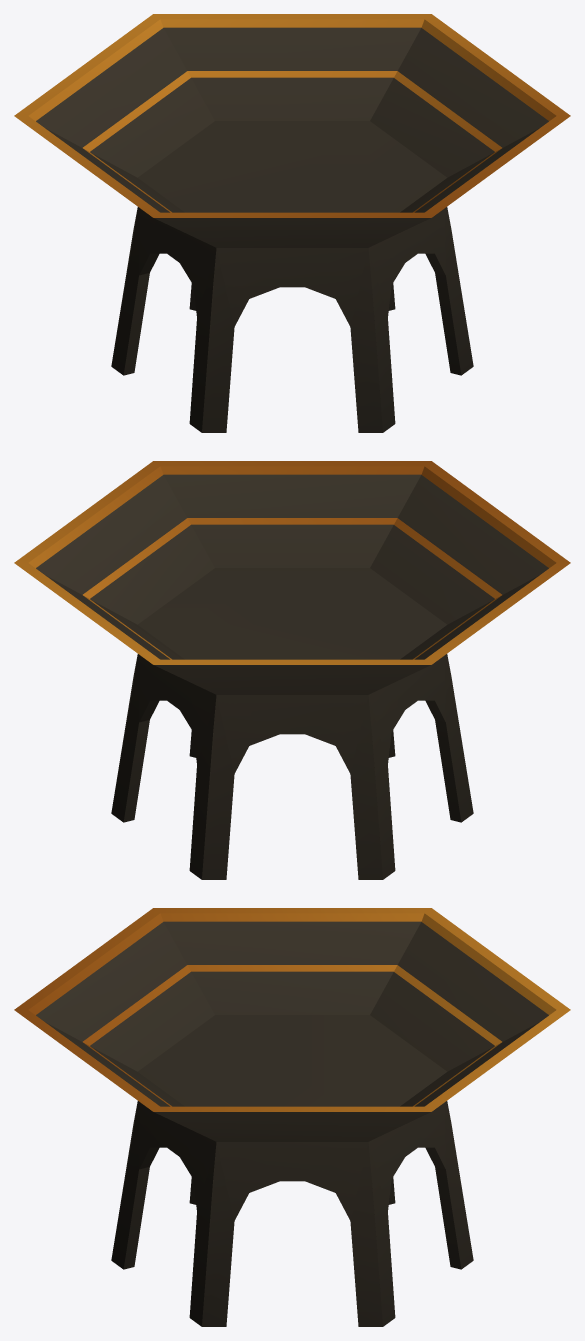
File: brazier.fbx
3 renders of one model, top to bottom at view 1: azimuth 30°, elevation 25°; view 2: azimuth 150°, elevation 25°; view 3: azimuth 270°, elevation 25°, orthographic.
Visible parts, largest first — view 1: brazier; view 2: brazier; view 3: brazier.
Part boxes in pixels (bbox=[...]): brazier: bbox=[14, 14, 570, 432]; brazier: bbox=[14, 461, 570, 879]; brazier: bbox=[14, 908, 570, 1326].
Bounding box in the file's own units: 0.7911 × 0.4537 × 0.9135.
